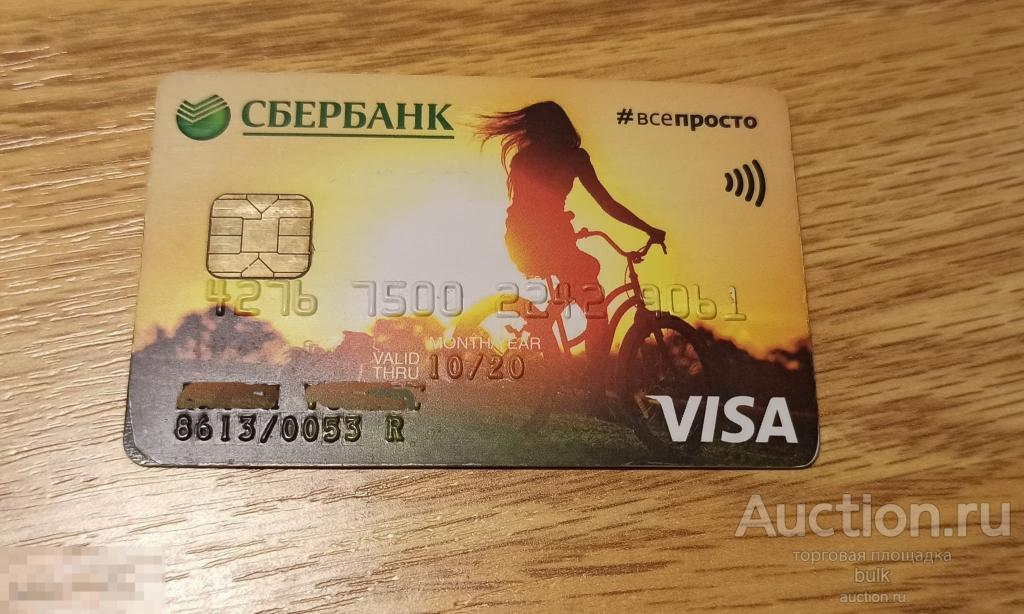card: (119, 71, 822, 470)
